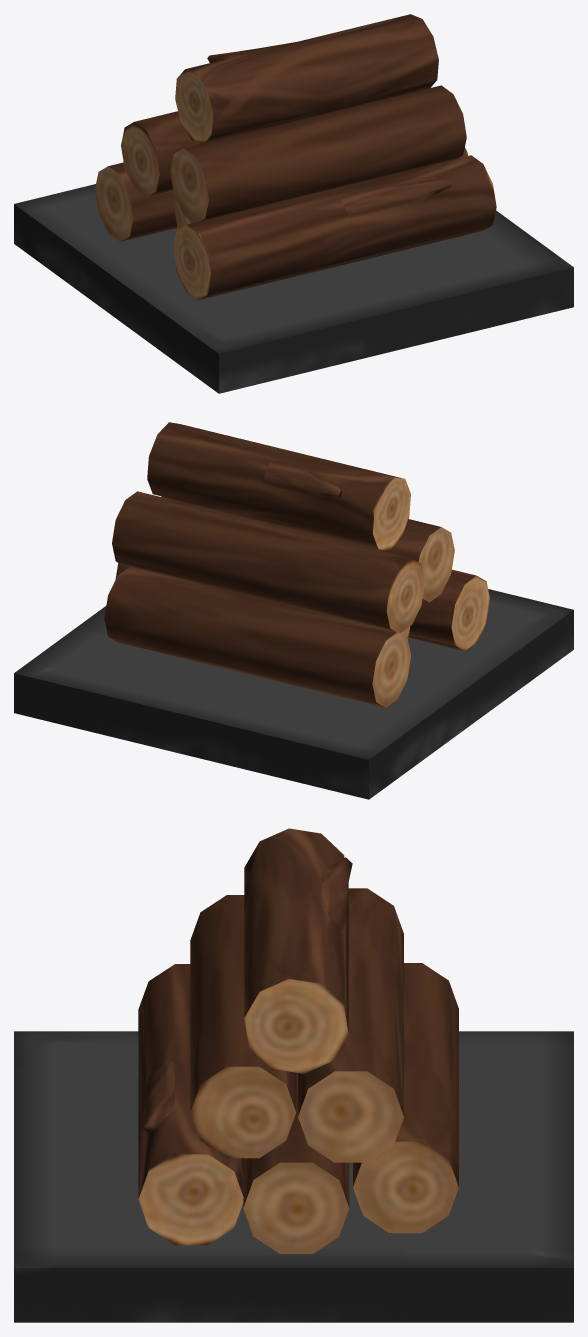
The model's file is WoodPieces.FBX.
3 views of the same model, one above another, from view 1: azimuth 30°, elevation 25°; view 2: azimuth 150°, elevation 25°; view 3: azimuth 270°, elevation 25° (orthographic). The views are drawn at different scales.
Parts seen in each view (by area): view 1: Box001; view 2: Box001; view 3: Box001.
Part boxes in pixels (box(x1,y1,x2,y2)): Box001: box(14, 14, 573, 393); Box001: box(14, 422, 573, 799); Box001: box(14, 828, 573, 1322).
Size of the model in its own units: 93.23 by 56.93 by 93.23.
